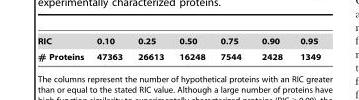table: (37, 36, 320, 61)
table column: (37, 36, 89, 61), (170, 36, 212, 61), (129, 36, 170, 61), (89, 36, 129, 61), (250, 36, 290, 61), (212, 36, 250, 61), (290, 36, 320, 61)
table row: (37, 48, 320, 61), (37, 36, 320, 48)
